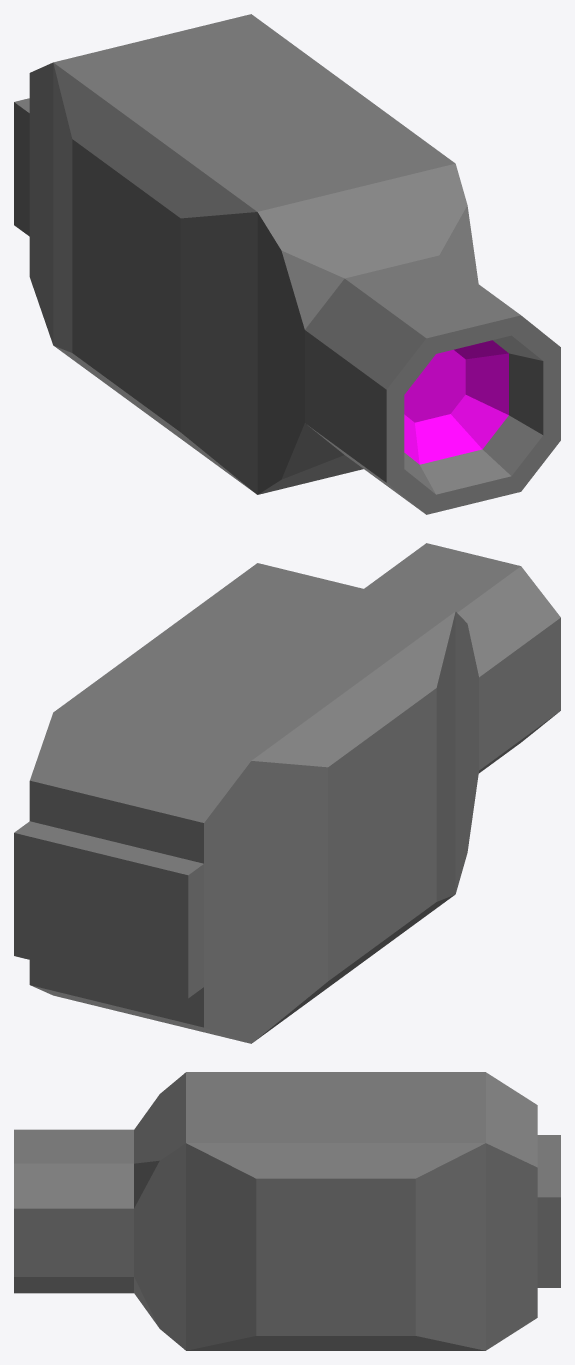
Rendered from BeamCannon.fbx.
The picture shows the model from 3 angles, top to bottom: view 1: azimuth 30°, elevation 25°; view 2: azimuth 150°, elevation 25°; view 3: azimuth 270°, elevation 25°; orthographic projection. The views are drawn at different scales.
Parts seen in each view (by area): view 1: BeamCannon; view 2: BeamCannon; view 3: BeamCannon.
Boxes of the visible parts, box(x1,y1,x2,y2) form: BeamCannon: box(14, 14, 560, 514); BeamCannon: box(14, 543, 560, 1043); BeamCannon: box(14, 1072, 560, 1350).
Size of the model in its own units: 91.2 by 230 by 96.43.
